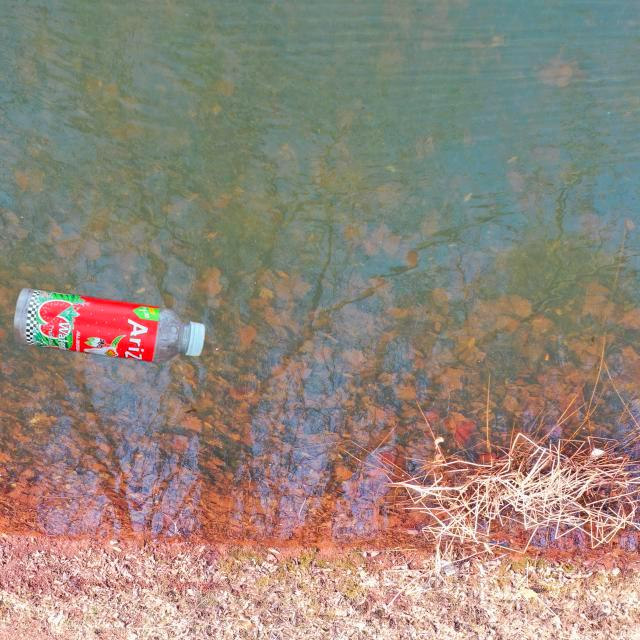Plastic: (7, 283, 210, 368)
